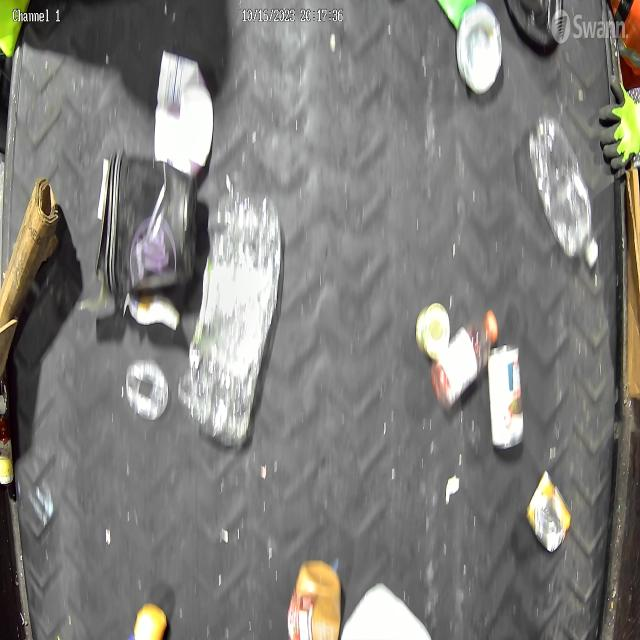can: (487, 338, 525, 454), (525, 469, 571, 554)
plastic_bottle: (527, 114, 600, 270), (430, 306, 500, 410)
